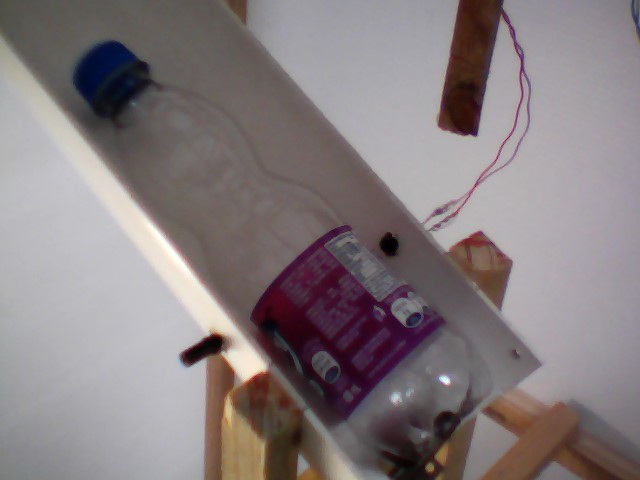plastico: (63, 34, 501, 480)
